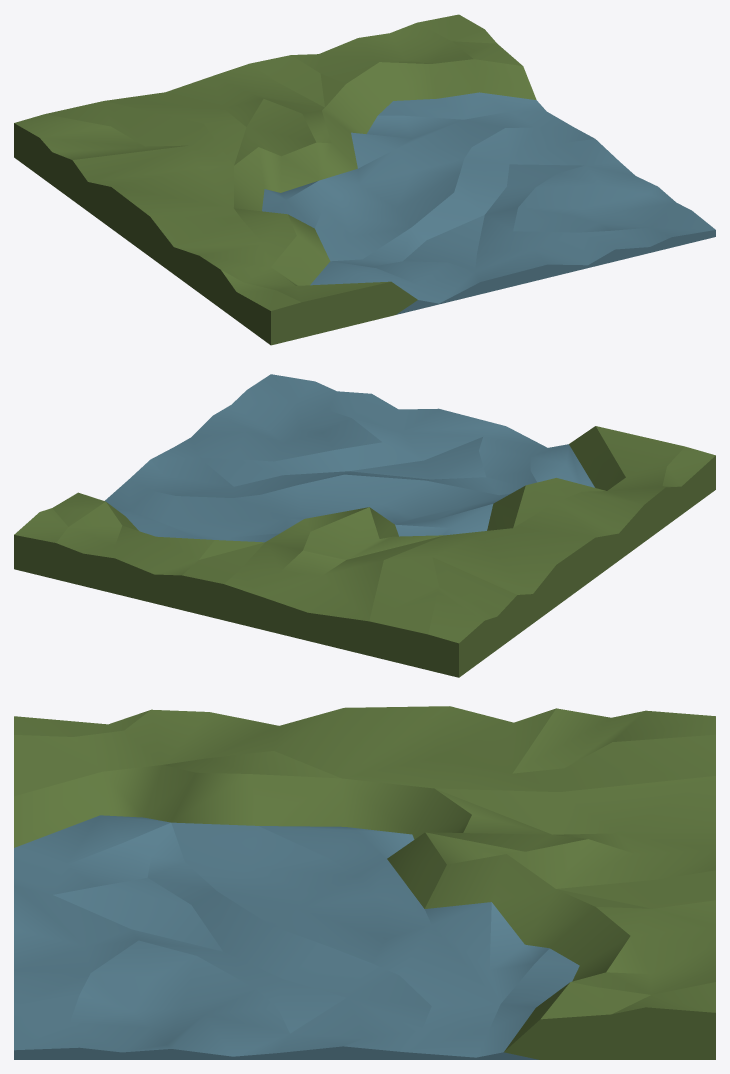
The model's file is Water_Round_LU.glb.
The picture shows the model from 3 angles, top to bottom: view 1: azimuth 30°, elevation 25°; view 2: azimuth 150°, elevation 25°; view 3: azimuth 270°, elevation 25°; orthographic projection. The views are drawn at different scales.
Parts seen in each view (by area): view 1: Water_Round_LU; view 2: Water_Round_LU; view 3: Water_Round_LU.
Part boxes in pixels (x1,y1,x2,y2): Water_Round_LU: (14, 14, 715, 345); Water_Round_LU: (14, 374, 715, 677); Water_Round_LU: (14, 706, 715, 1059).
Bounding box in the file's own units: 1.47 × 0.1465 × 1.47.
